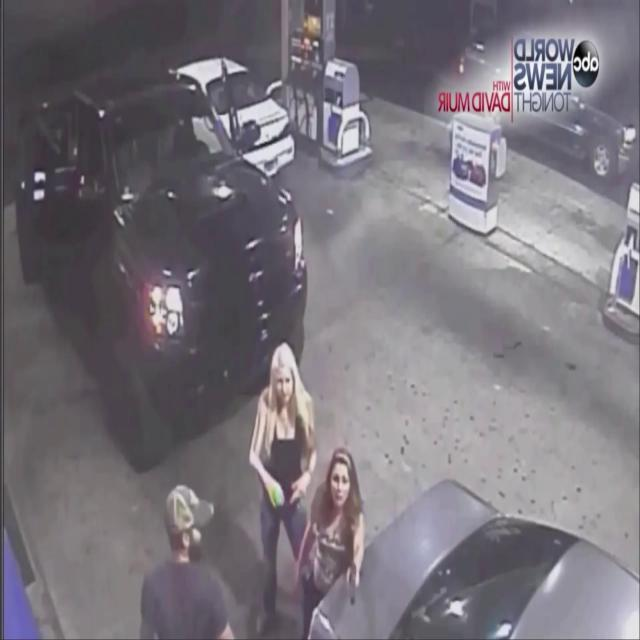Gun: (348, 562, 362, 608)
